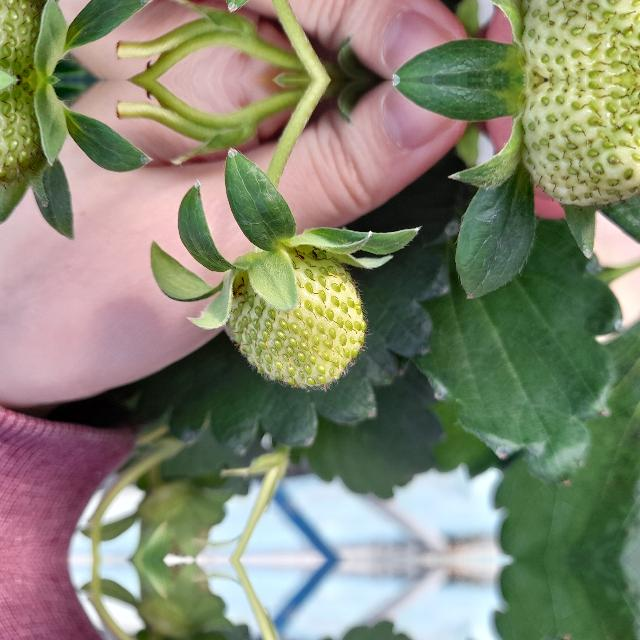Health_25: (226, 240, 366, 390), (521, 80, 639, 204), (521, 0, 639, 80)
